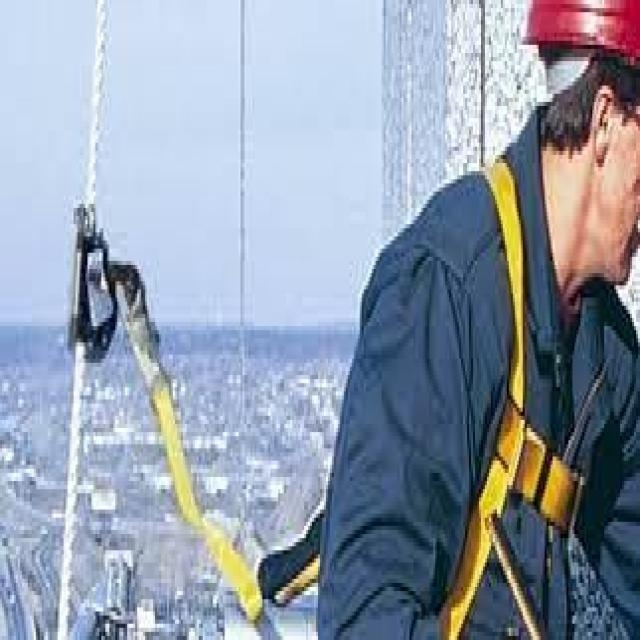Arnes_seguridad: (429, 193, 592, 640)
